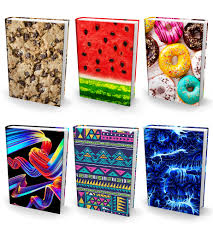book: (71, 124, 139, 218), (142, 16, 209, 107), (143, 124, 209, 216), (4, 16, 70, 106), (4, 124, 69, 215), (75, 16, 139, 107)
